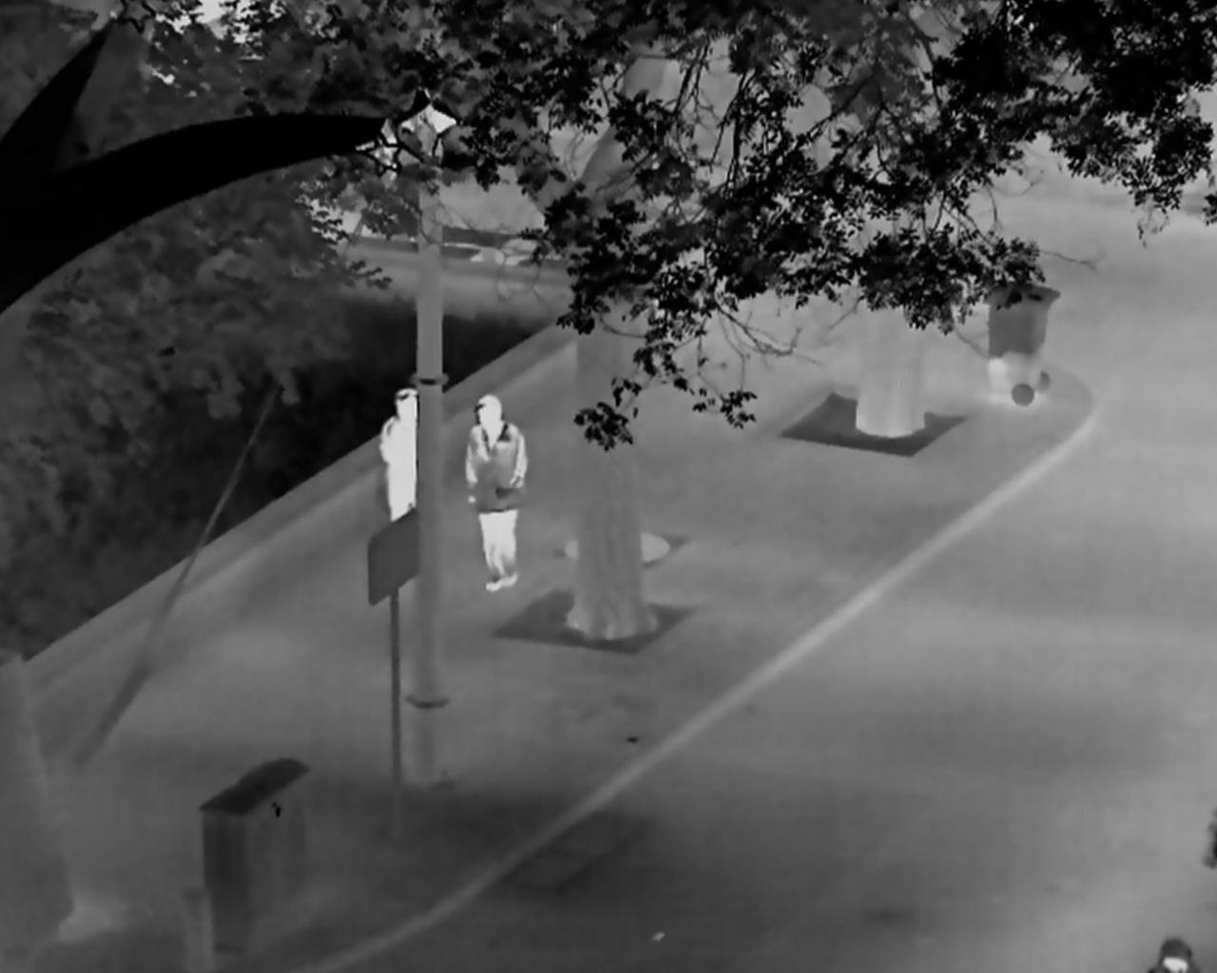person: (462, 391, 529, 591), (377, 387, 415, 524), (1147, 936, 1201, 973)
